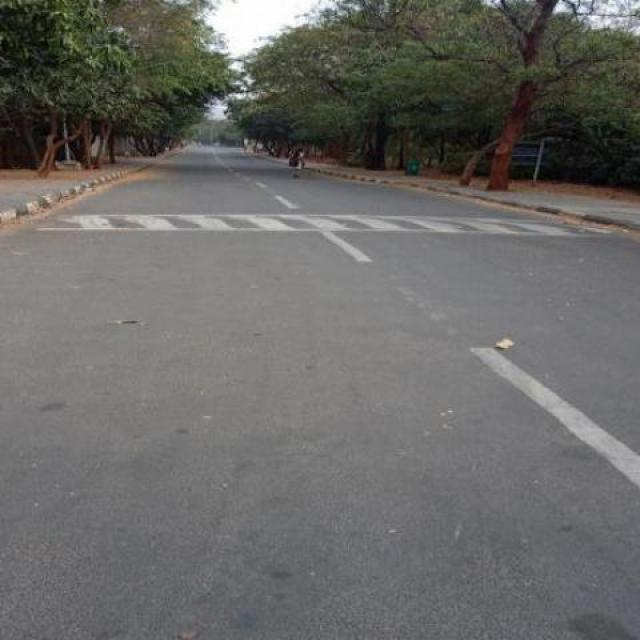Speed Bump: (1, 210, 614, 233)
